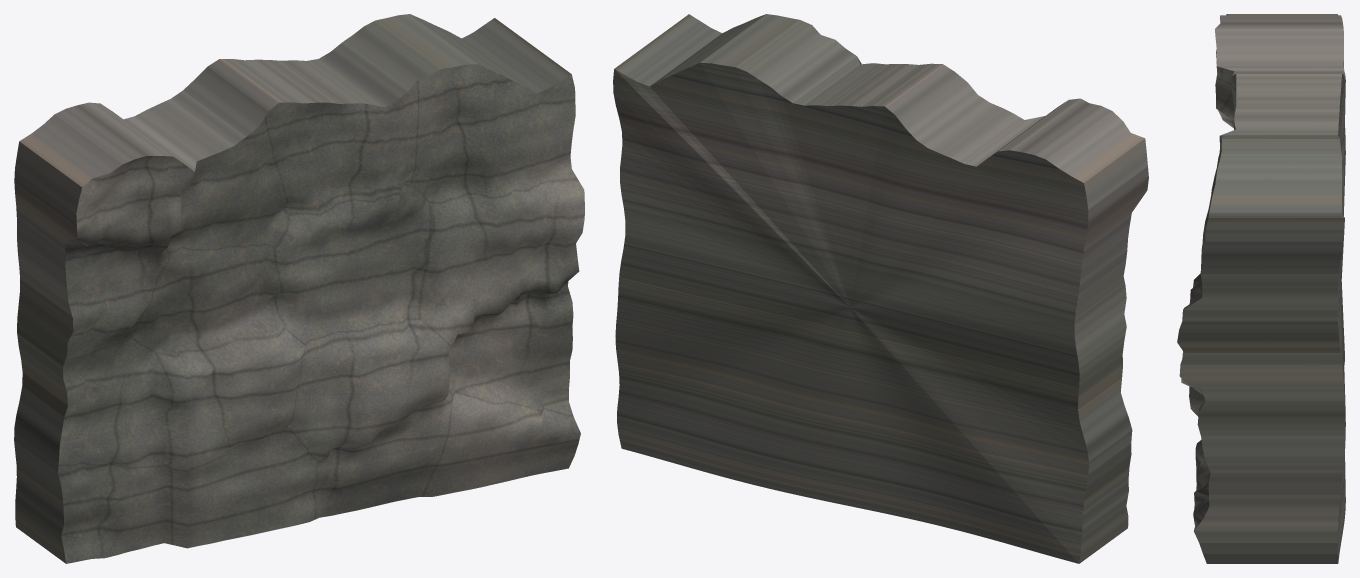
The model's file is rock-lod2.glb.
3 views of the same model, side by side, from view 1: azimuth 30°, elevation 25°; view 2: azimuth 150°, elevation 25°; view 3: azimuth 270°, elevation 25° (orthographic). The views are drawn at different scales.
Visible parts, largest first — view 1: Rock_LOD2; view 2: Rock_LOD2; view 3: Rock_LOD2.
Boxes of the visible parts, box(x1,y1,x2,y2) form: Rock_LOD2: box(14, 14, 584, 563); Rock_LOD2: box(613, 14, 1148, 563); Rock_LOD2: box(1177, 14, 1345, 563).
Bounding box in the file's own units: 12.06 × 10 × 4.09.
Materials: 1 (1 with a texture image).
